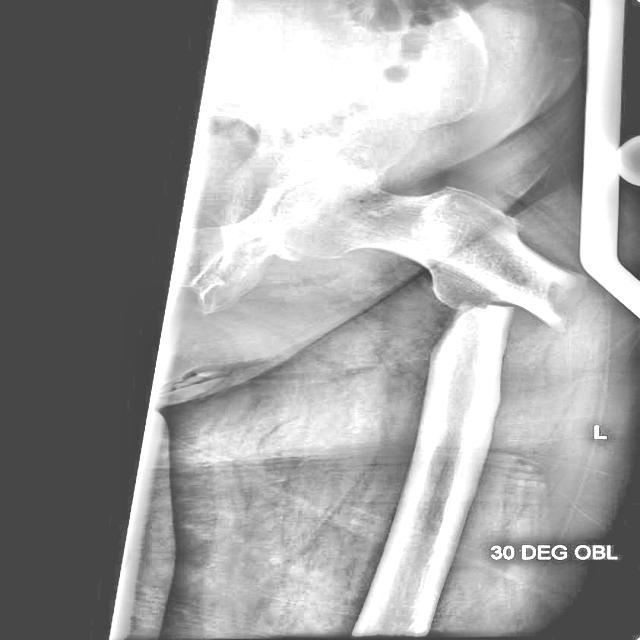messed_up_angle: (416, 271, 588, 346)
